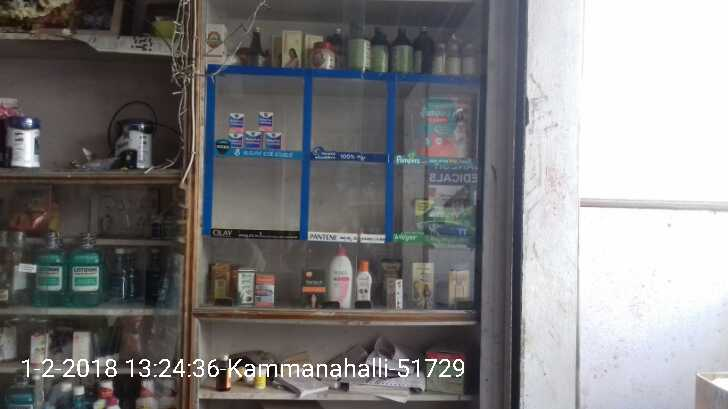pharmacy: (417, 92, 472, 158), (264, 129, 283, 152), (228, 111, 245, 133), (257, 113, 274, 131), (228, 132, 243, 151), (246, 131, 262, 147)
